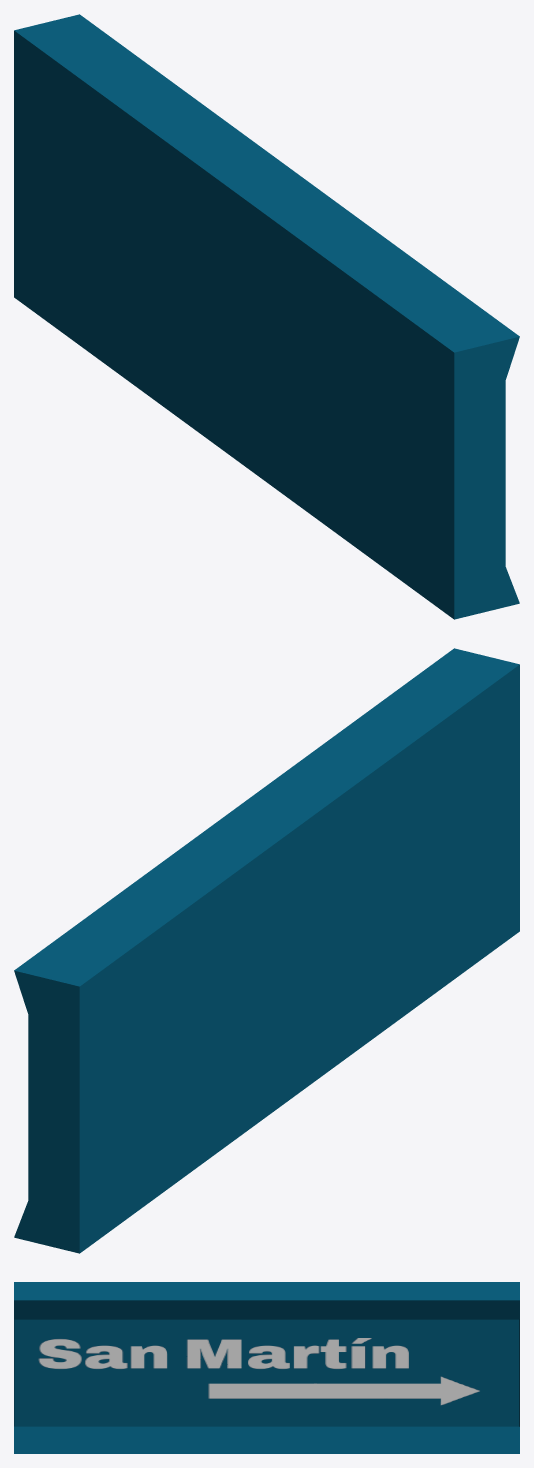
Rendered from cartel_calles_sn.glb.
3 renders of one model, top to bottom at view 1: azimuth 30°, elevation 25°; view 2: azimuth 150°, elevation 25°; view 3: azimuth 270°, elevation 25°, orthographic. The views are drawn at different scales.
Visible parts, largest first — view 1: Texto; view 2: Texto; view 3: Cartel, Texto.
Boxes of the visible parts, x1,y1,x2,y2 form: Texto: (14, 14, 519, 619); Texto: (14, 648, 519, 1253); Cartel: (14, 1319, 519, 1426); Texto: (14, 1282, 519, 1453).
Bounding box in the file's own units: 0.2107 × 0.8175 × 2.44.
2 materials, 1 textured.
